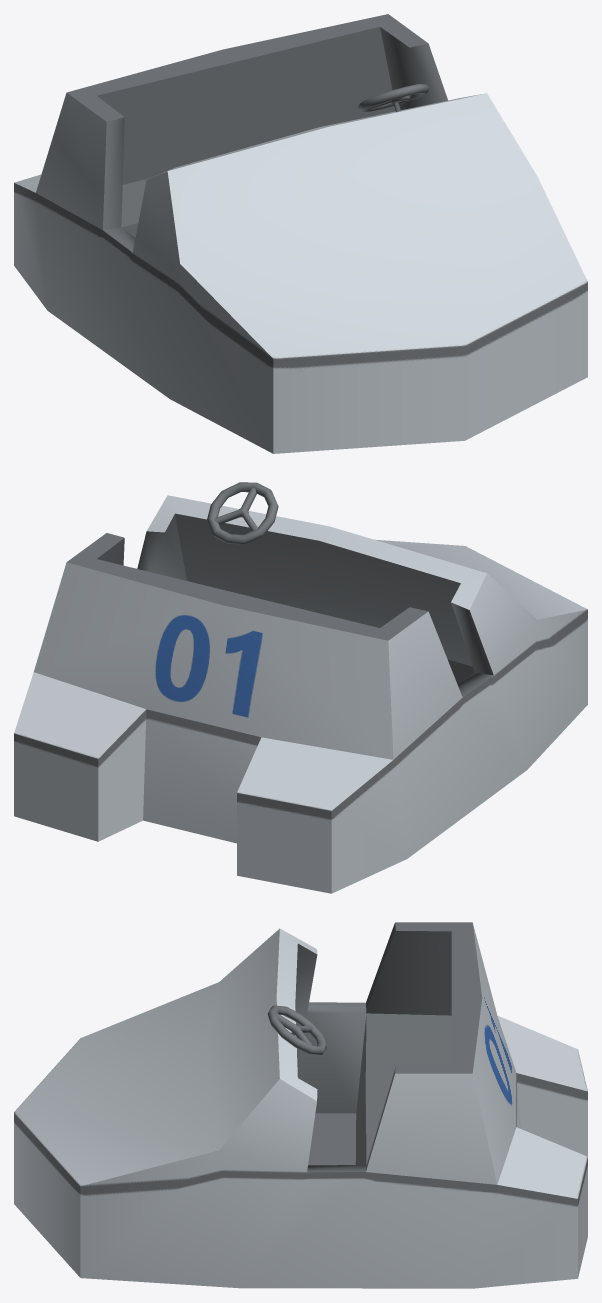
File: Pedalo_Barco_Ver2.fbx
3 views of the same model, one above another, from view 1: azimuth 30°, elevation 25°; view 2: azimuth 150°, elevation 25°; view 3: azimuth 270°, elevation 25° (orthographic). The views are drawn at different scales.
Visible parts, largest first — view 1: Boat_Barco_Ver2; view 2: Boat_Barco_Ver2; view 3: Boat_Barco_Ver2.
Boxes of the visible parts, left/top/right/bottom form: Boat_Barco_Ver2: left=14, top=14, right=587, bottom=453; Boat_Barco_Ver2: left=14, top=482, right=587, bottom=893; Boat_Barco_Ver2: left=14, top=922, right=587, bottom=1288.
Size of the model in its own units: 115 by 72.13 by 164.
